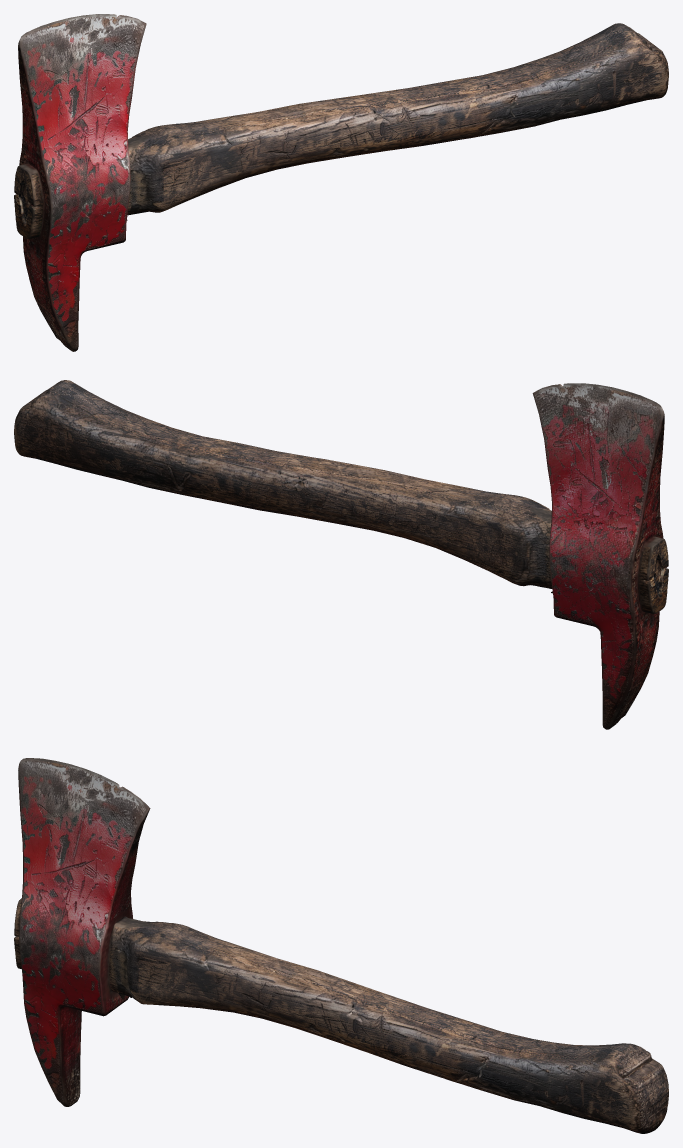
Rendered from tripo_convert_24332372-5349-423a-bfd9-c7d030222a9d.fbx.
The picture shows the model from 3 angles, top to bottom: view 1: azimuth 30°, elevation 25°; view 2: azimuth 150°, elevation 25°; view 3: azimuth 330°, elevation 25°; orthographic projection. The views are drawn at different scales.
Visible parts, largest first — view 1: tripo_node_24332372; view 2: tripo_node_24332372; view 3: tripo_node_24332372.
Boxes of the visible parts, box(x1,y1,x2,y2) form: tripo_node_24332372: box(14, 14, 668, 351); tripo_node_24332372: box(14, 380, 668, 729); tripo_node_24332372: box(14, 758, 668, 1133).
Size of the model in its own units: 0.9985 by 0.5015 by 0.1128.
1 material, 1 textured.
